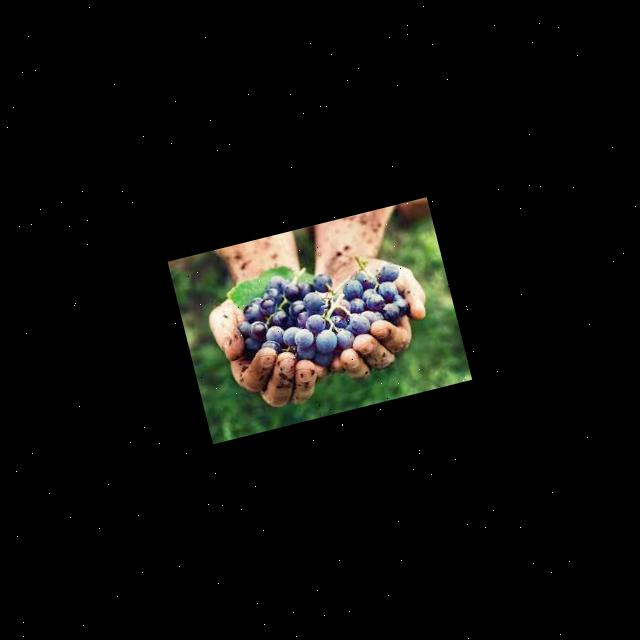grape: (226, 244, 419, 386)
